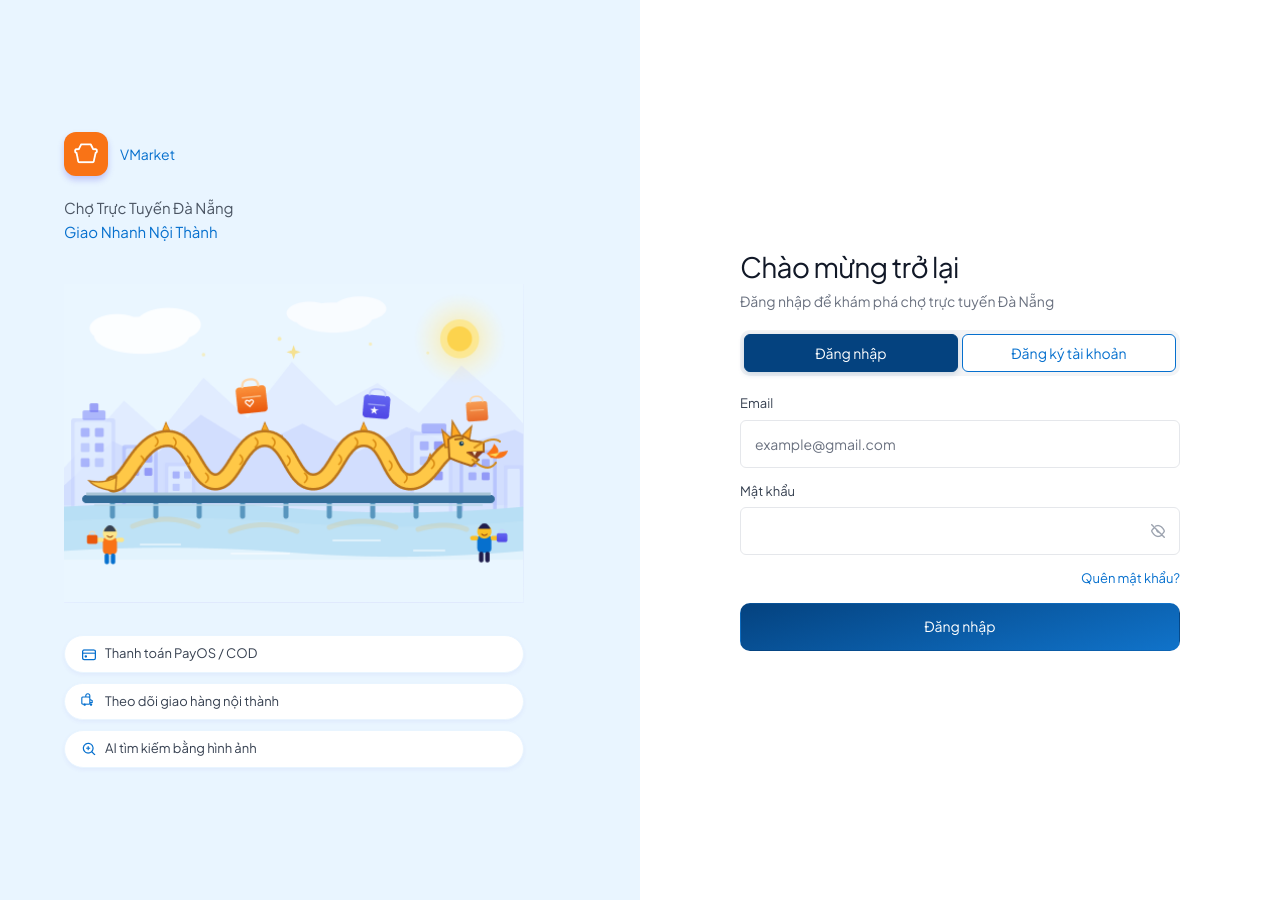
Login flow › accepts a legacy non-empty login password and shows the backend suspension error
This screenshot has width=1280, height=900.
Type "buyer@example.com" into the field labelled "Email" at (960, 444), box 740,420 -> 1180,468
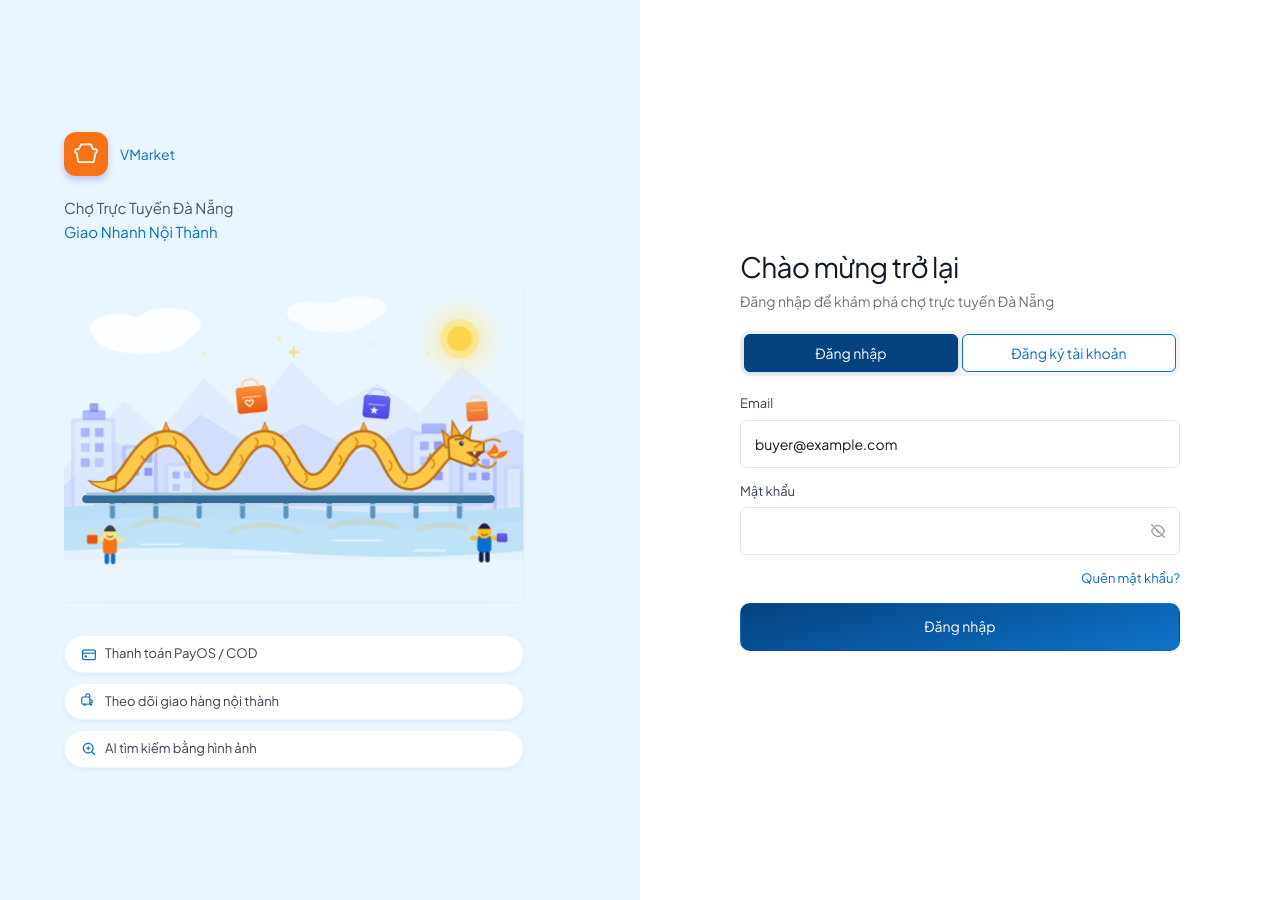
Type "legacy" into the password field labelled "Mật khẩu" at (960, 531), box 740,507 -> 1180,555
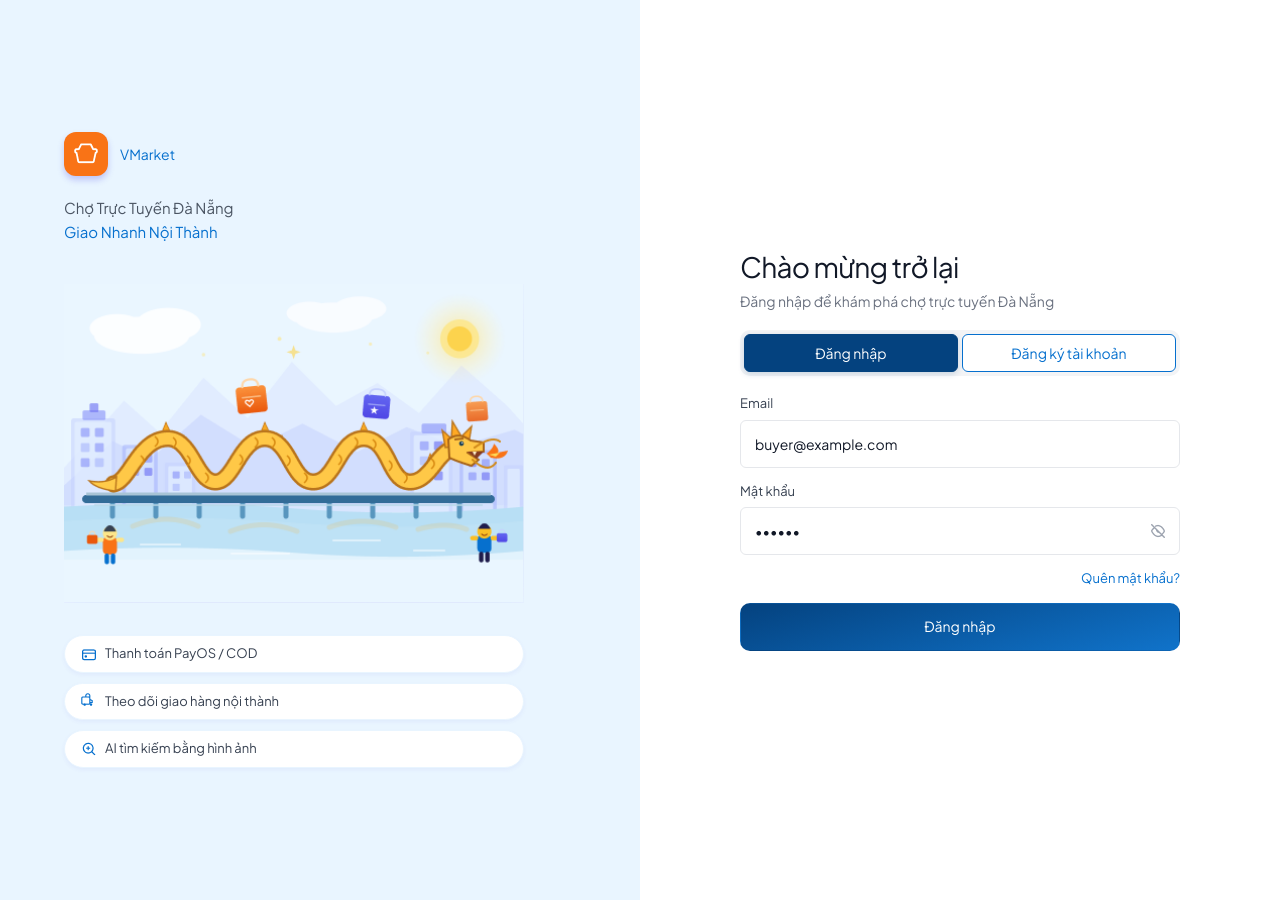
Click the button "Đăng nhập" at (960, 627), box 740,603 -> 1180,651
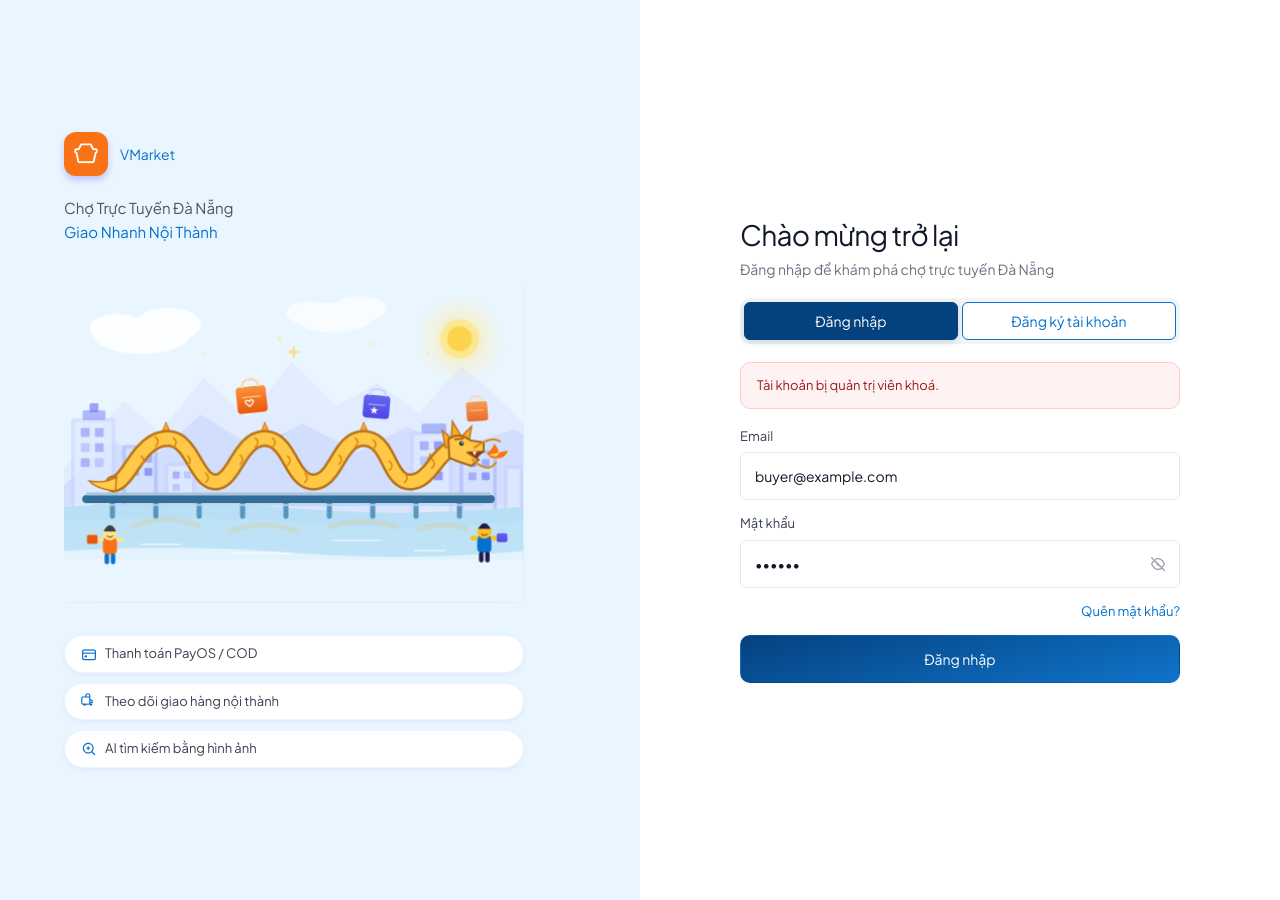
Expected: the message "Tài khoản bị quản trị viên khoá." is shown, 740,362 -> 1180,409
